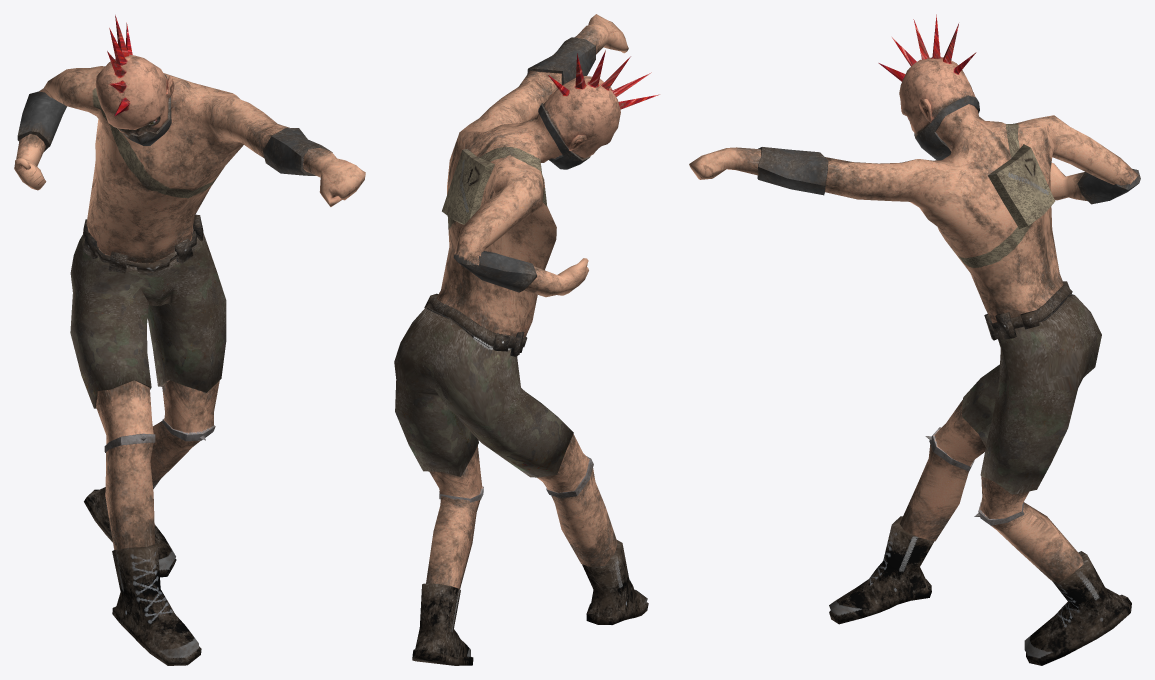
Rendered from Anim_ataque_d2_npc2.0033.obj.
3 renders of one model, left to right at view 1: azimuth 30°, elevation 25°; view 2: azimuth 150°, elevation 25°; view 3: azimuth 270°, elevation 25°, orthographic.
Parts seen in each view (by area): view 1: polySurface1; view 2: polySurface1; view 3: polySurface1.
Boxes of the visible parts, x1,y1,x2,y2 form: polySurface1: (14, 15, 365, 665); polySurface1: (394, 14, 659, 665); polySurface1: (689, 14, 1140, 665).
Bounding box in the file's own units: 3.02 × 9.15 × 6.26.
2 materials, 2 textured.
